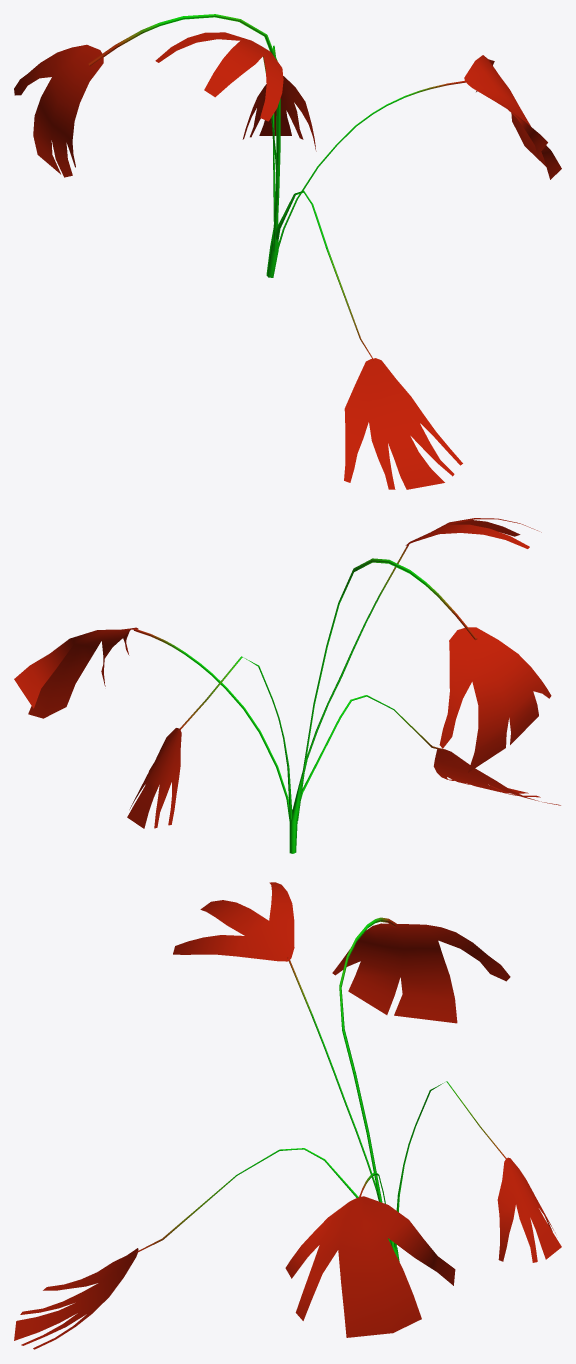
File: Var4_LOD0.fbx
3 renders of one model, top to bottom at view 1: azimuth 30°, elevation 25°; view 2: azimuth 150°, elevation 25°; view 3: azimuth 270°, elevation 25°, orthographic. The views are drawn at different scales.
Visible parts, largest first — view 1: _6cd2_Var4_LOD0; view 2: _6cd2_Var4_LOD0; view 3: _6cd2_Var4_LOD0.
Boxes of the visible parts, x1,y1,x2,y2 form: _6cd2_Var4_LOD0: [14, 14, 561, 489]; _6cd2_Var4_LOD0: [14, 518, 560, 853]; _6cd2_Var4_LOD0: [14, 882, 561, 1349].
Size of the model in its own units: 193 by 146 by 187.
